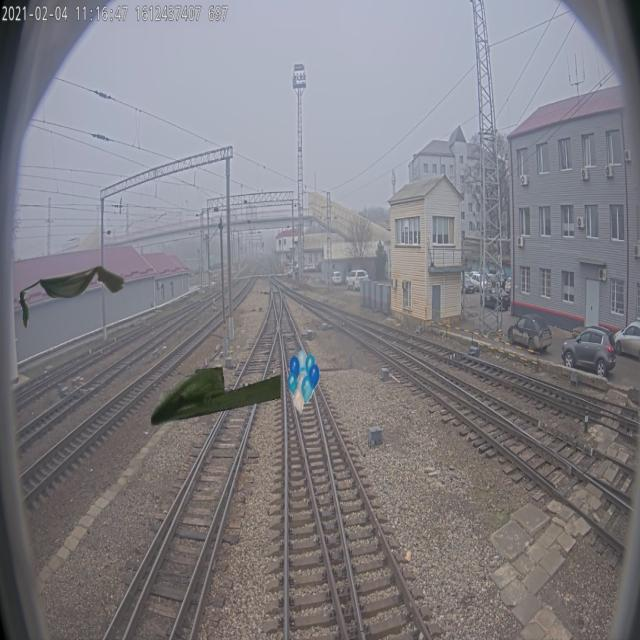balloon: (287, 349, 320, 414)
floating object: (151, 363, 281, 428), (19, 264, 127, 328)
